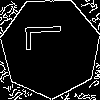L: (25, 22, 71, 52)
